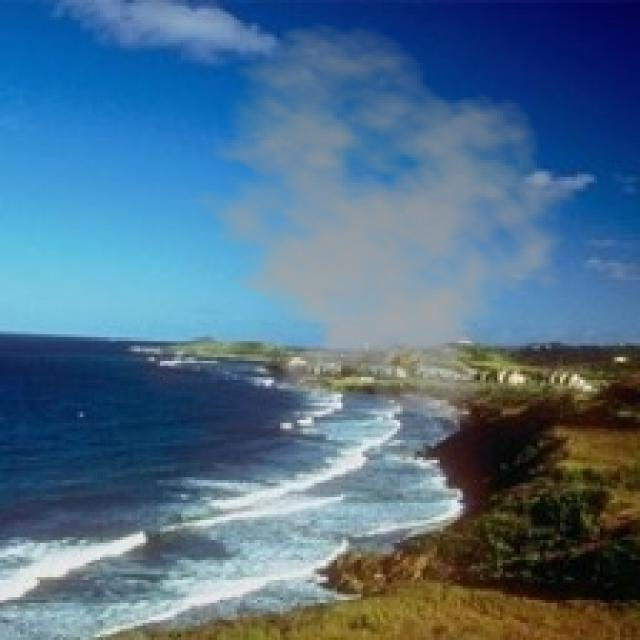smoke: (171, 20, 583, 426)
